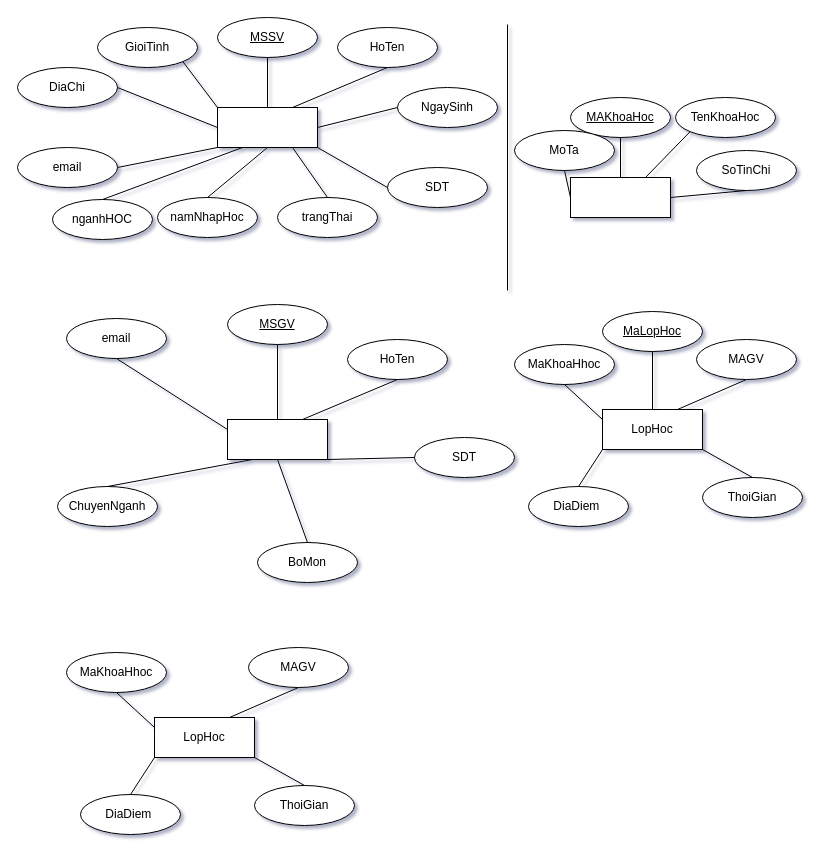
The diagram is 826 pixels wide and 858 high, and some of its shapes have lost their labels. Here are the shapes that lost their labels. From the top down, the centre of each, then its label:
At pixel 267 127: "SinhVien".
At pixel 620 197: "KhoaHoc".
At pixel 277 439: "GiangVien".
